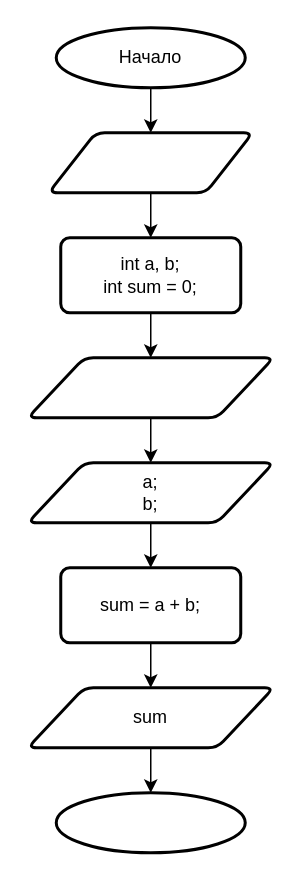
The diagram is 300 pixels wide and 879 high, and some of its shapes have lost their labels. The shapes that lost their labels are listed below. From the top down, each one's centre as x and y in pixels, then its label:
At point 150,162: "Задание 1".
At point 150,387: "Введите число a: Введите число b:".
At point 150,822: "Конец".
